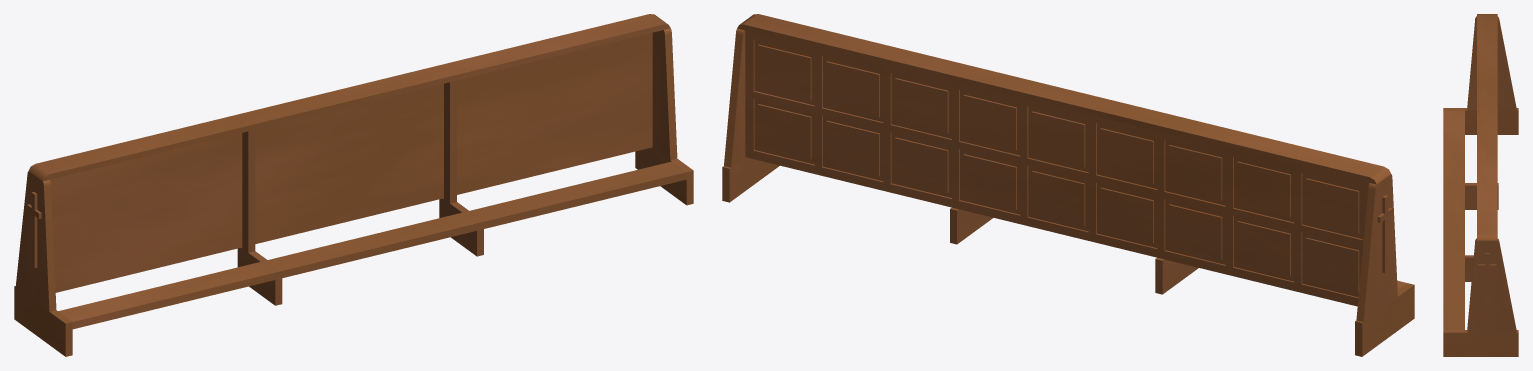
File: reposarrodillas Principal.fbx
3 renders of one model, left to right at view 1: azimuth 30°, elevation 25°; view 2: azimuth 150°, elevation 25°; view 3: azimuth 270°, elevation 25°, orthographic. The views are drawn at different scales.
Visible parts, largest first — view 1: Cube.054, Cube.015, Cube.034, Cube.010, Cube.017, Cube.055; view 2: Cube.039, Cube.034, Cube.010, Cube.015, Cube.017, Cube.055; view 3: Cube.015, Cube.010, Cube.034, Cube.017, Cube.055.
Part boxes in pixels (<box>): Cube.054: <box>50,32,652,292</box>; Cube.015: <box>14,147,693,356</box>; Cube.034: <box>28,14,670,181</box>; Cube.010: <box>15,28,677,311</box>; Cube.017: <box>237,80,483,305</box>; Cube.055: <box>27,192,41,268</box>; Cube.039: <box>745,30,1369,306</box>; Cube.034: <box>737,14,1390,184</box>; Cube.010: <box>724,28,1397,321</box>; Cube.015: <box>722,157,1414,356</box>; Cube.017: <box>950,207,1198,294</box>; Cube.055: <box>1377,195,1392,272</box>; Cube.015: <box>1443,108,1518,356</box>; Cube.010: <box>1467,16,1516,332</box>; Cube.034: <box>1477,14,1497,240</box>; Cube.017: <box>1465,183,1498,281</box>; Cube.055: <box>1478,253,1496,307</box>.
Bounding box in the file's own units: 359 × 89 × 50.48.
